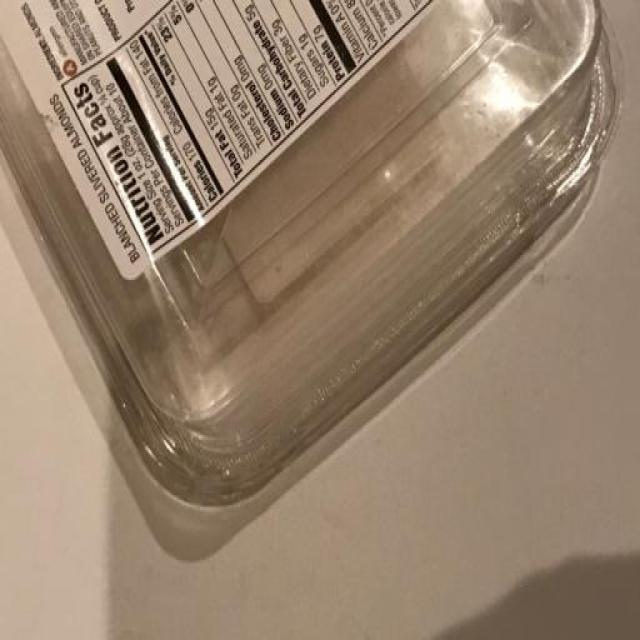plastic: (2, 1, 640, 528)
